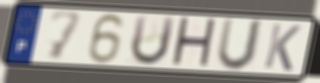6: (85, 12, 128, 66)
7: (47, 9, 83, 63)
H: (169, 15, 219, 71)
K: (262, 22, 304, 73)
U: (214, 16, 267, 74), (128, 14, 178, 68)
